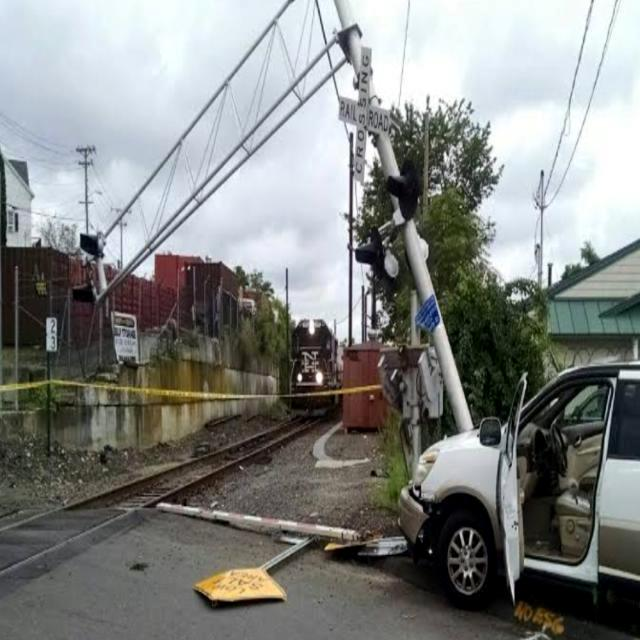Broken Pole: (79, 1, 475, 432)
